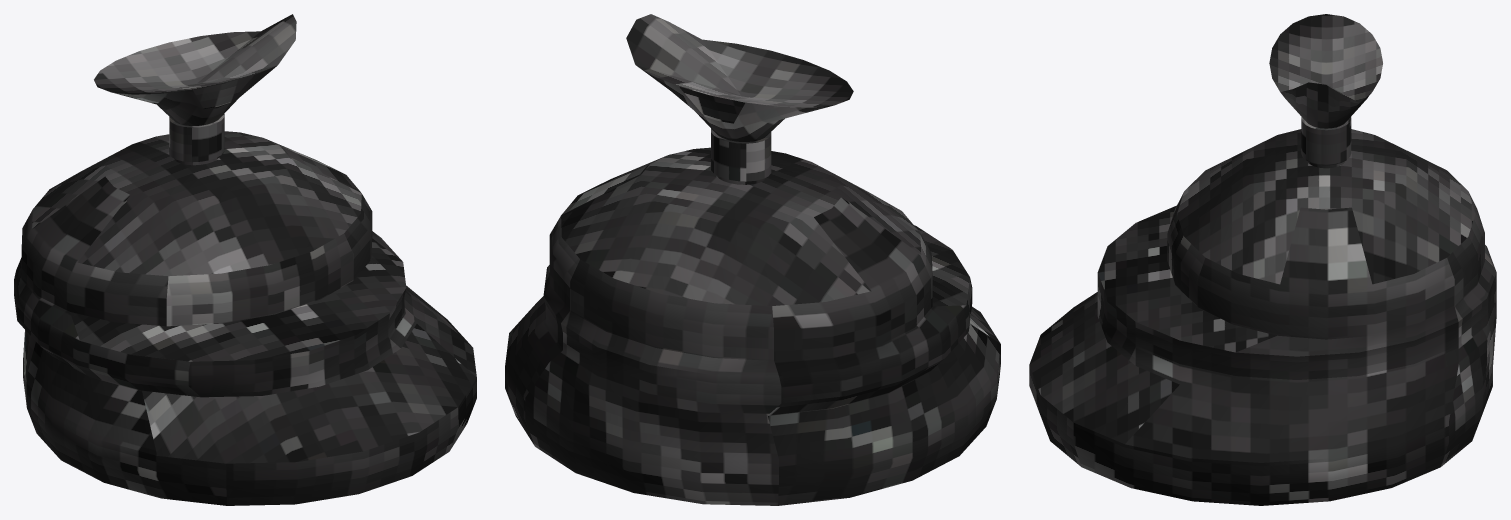
File: Bolsa de basura.fbx
3 renders of one model, left to right at view 1: azimuth 30°, elevation 25°; view 2: azimuth 150°, elevation 25°; view 3: azimuth 270°, elevation 25°, orthographic. The views are drawn at different scales.
Parts seen in each view (by area): view 1: pCylinder1; view 2: pCylinder1; view 3: pCylinder1.
Part boxes in pixels (x1=…): pCylinder1: x1=14, y1=14, x2=476, y2=505; pCylinder1: x1=505, y1=14, x2=1000, y2=505; pCylinder1: x1=1029, y1=14, x2=1496, y2=505.
Size of the model in its own units: 77.61 by 75.41 by 78.21.
